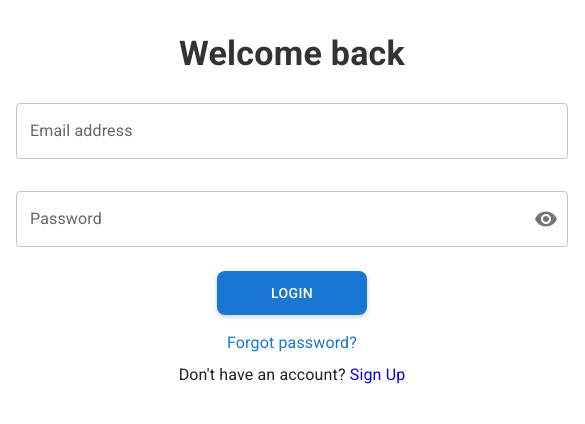
Test: Login Component › validates form inputs
Click the button "Login".
click(292, 293)  # box x1=217 y1=271 x2=367 y2=315
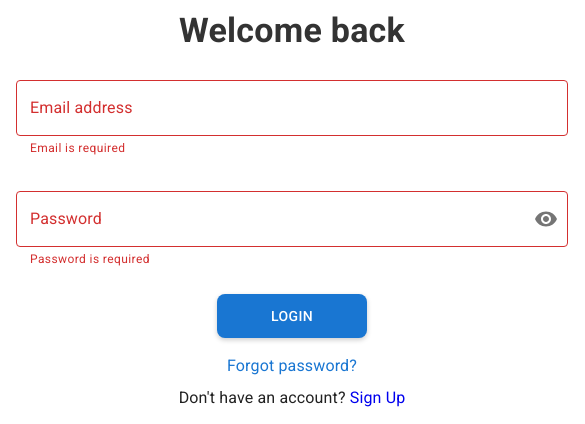
Now the text "Email is required" is shown, box x1=30 y1=141 x2=125 y2=155
Now the text "Password is required" is shown, box x1=30 y1=252 x2=150 y2=266
